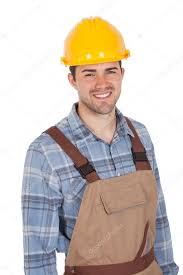Person_wearing_helmet: (64, 10, 126, 84)
